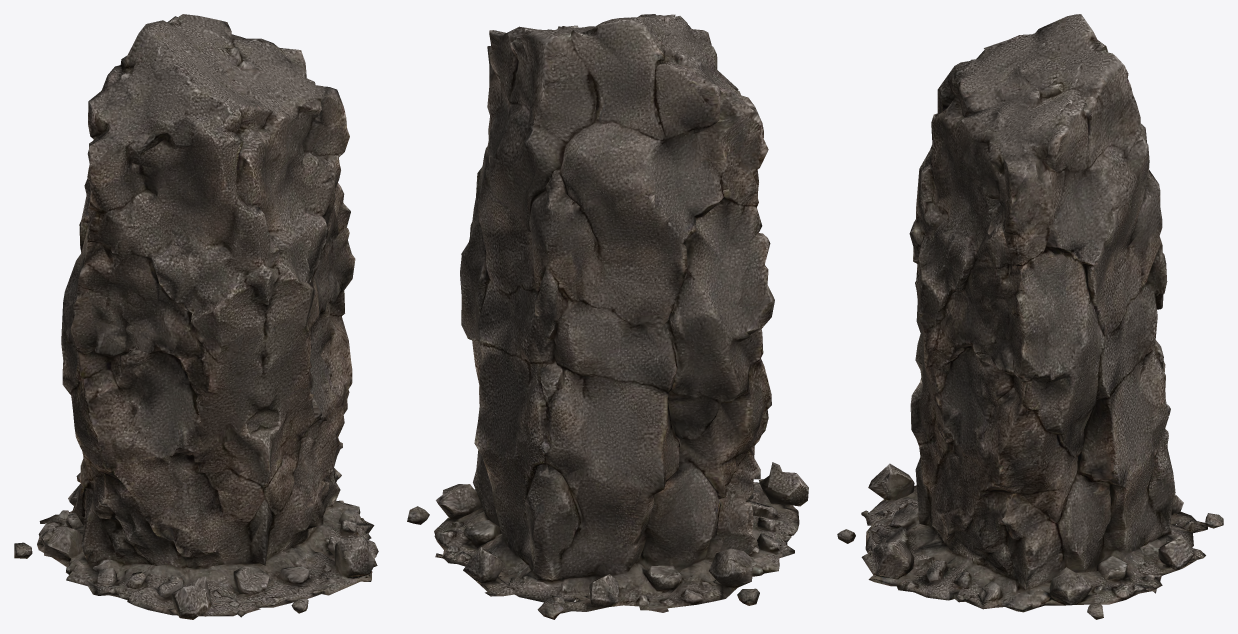
The model's file is phobos-monolith.glb.
The picture shows the model from 3 angles, left to right: view 1: azimuth 30°, elevation 25°; view 2: azimuth 150°, elevation 25°; view 3: azimuth 270°, elevation 25°; orthographic projection. The views are drawn at different scales.
Visible parts, largest first — view 1: tripo_node_a89dfe1f-8b0b-4bde-be31-9aaf35e0787b; view 2: tripo_node_a89dfe1f-8b0b-4bde-be31-9aaf35e0787b; view 3: tripo_node_a89dfe1f-8b0b-4bde-be31-9aaf35e0787b.
Boxes of the visible parts, <box> form: tripo_node_a89dfe1f-8b0b-4bde-be31-9aaf35e0787b: <box>14,14,378,619</box>; tripo_node_a89dfe1f-8b0b-4bde-be31-9aaf35e0787b: <box>407,14,808,619</box>; tripo_node_a89dfe1f-8b0b-4bde-be31-9aaf35e0787b: <box>837,14,1223,619</box>.
Size of the model in its own units: 0.6657 by 1 by 0.6886.
Materials: 1 (1 with a texture image).
